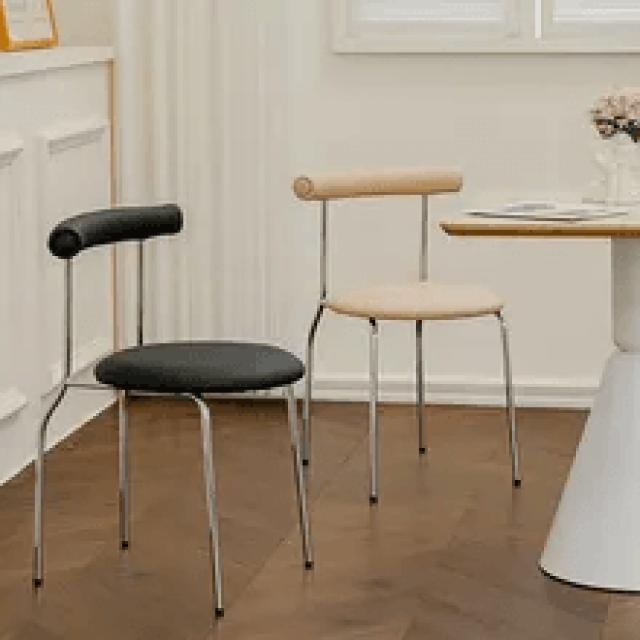chair: (26, 200, 316, 616), (290, 162, 524, 508), (43, 202, 304, 394), (294, 166, 508, 318)
